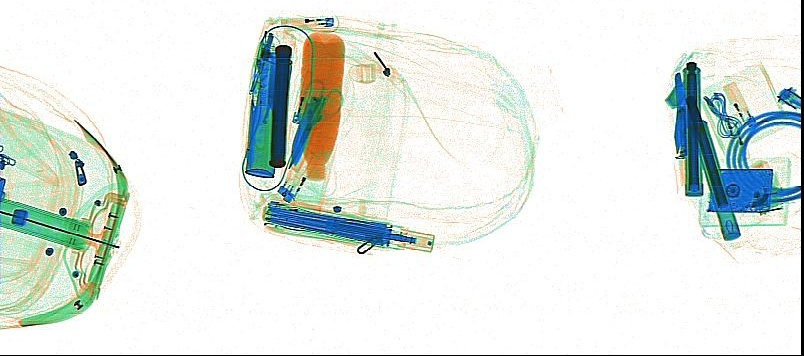knife: (290, 95, 329, 172), (673, 71, 692, 186), (245, 98, 257, 165), (672, 104, 686, 158)
lighter: (275, 148, 318, 204), (719, 80, 758, 130), (291, 80, 312, 125), (279, 17, 334, 28)
nailpolish: (664, 76, 695, 108)
pressure: (244, 28, 297, 179)
scissors: (287, 78, 343, 169), (248, 51, 287, 151)
